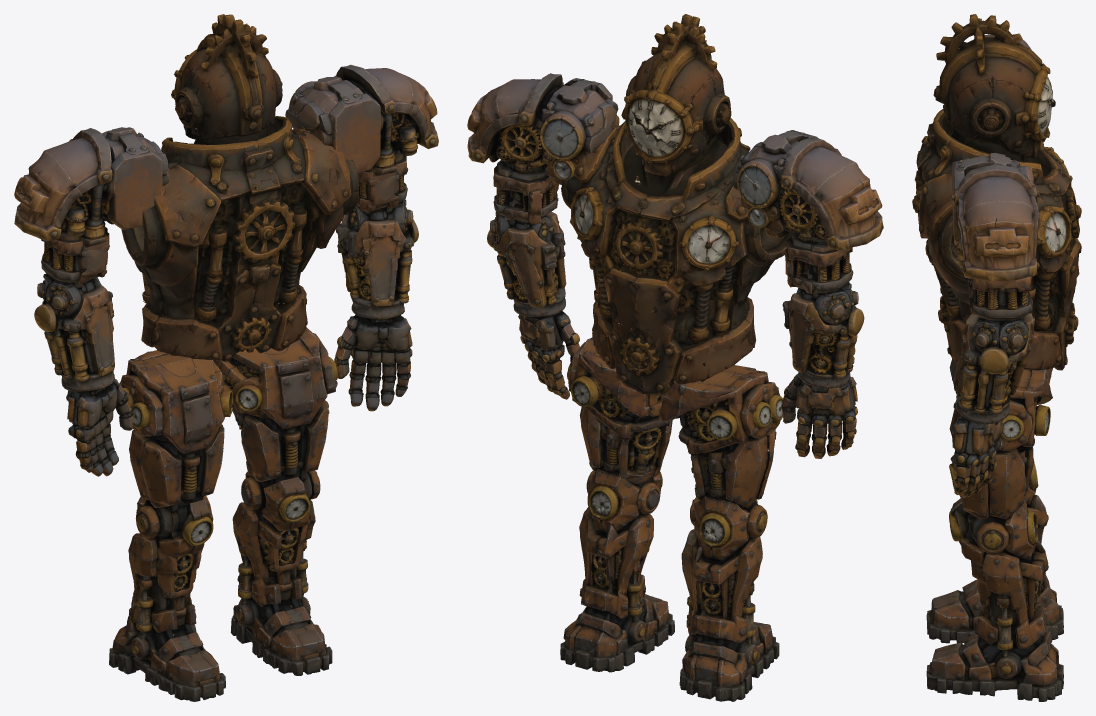
Rendered from Gear_T07.glb.
3 views of the same model, side by side, from view 1: azimuth 30°, elevation 25°; view 2: azimuth 150°, elevation 25°; view 3: azimuth 270°, elevation 25° (orthographic).
Parts seen in each view (by area): view 1: Torso_Upper, ArmL_Upper, LegL_Upper, ArmR_Upper, LegR_Upper, Head, LegL_Foot, LegR_Lower, ArmR_Lower, LegR_Foot, LegL_Lower, ArmL_Lower (+3 smaller); view 2: Torso_Upper, ArmL_Upper, ArmR_Upper, LegL_Upper, Head, LegR_Upper, Torso_Lower, LegL_Lower, LegR_Lower, LegR_Foot, LegL_Foot, ArmR_Lower (+3 smaller); view 3: Torso_Upper, ArmR_Upper, Head, LegR_Foot, LegR_Lower, ArmR_Lower, LegR_Upper, LegL_Foot, Torso_Lower, ArmR_Hand, LegL_Lower, LegL_Upper.
Part boxes in pixels (x1,y1,x2,y2): Torso_Upper: [121, 109, 359, 325]; ArmL_Upper: [14, 127, 169, 288]; LegL_Upper: [119, 350, 232, 505]; ArmR_Upper: [285, 64, 438, 211]; LegR_Upper: [213, 327, 338, 479]; Head: [171, 14, 282, 137]; LegL_Foot: [109, 591, 225, 701]; LegR_Lower: [232, 464, 320, 579]; ArmR_Lower: [336, 200, 418, 320]; LegR_Foot: [230, 566, 332, 675]; LegL_Lower: [128, 493, 213, 606]; ArmL_Lower: [34, 275, 114, 391]; Torso_Upper: [561, 118, 794, 334]; ArmL_Upper: [733, 130, 883, 296]; ArmR_Upper: [467, 73, 619, 224]; LegL_Upper: [659, 365, 782, 503]; Head: [621, 14, 731, 148]; LegR_Upper: [567, 337, 672, 479]; Torso_Lower: [592, 299, 755, 394]; LegL_Lower: [681, 491, 767, 620]; LegR_Lower: [579, 465, 662, 593]; LegR_Foot: [560, 574, 674, 672]; LegL_Foot: [679, 601, 779, 701]; ArmR_Lower: [487, 211, 566, 316]; Torso_Upper: [912, 109, 1081, 325]; ArmR_Upper: [951, 152, 1039, 326]; Head: [933, 14, 1055, 137]; LegR_Foot: [926, 604, 1063, 701]; LegR_Lower: [949, 498, 1048, 624]; ArmR_Lower: [955, 313, 1034, 423]; LegR_Upper: [949, 369, 1052, 513]; LegL_Foot: [926, 572, 1063, 643]; Torso_Lower: [938, 296, 1078, 370]; ArmR_Hand: [952, 416, 1003, 497]; LegL_Lower: [949, 455, 1048, 543]; LegL_Upper: [949, 358, 1052, 393].
Bounding box in the file's own units: 4.14 × 6.25 × 1.5.
Materials: 3 (3 with a texture image).
